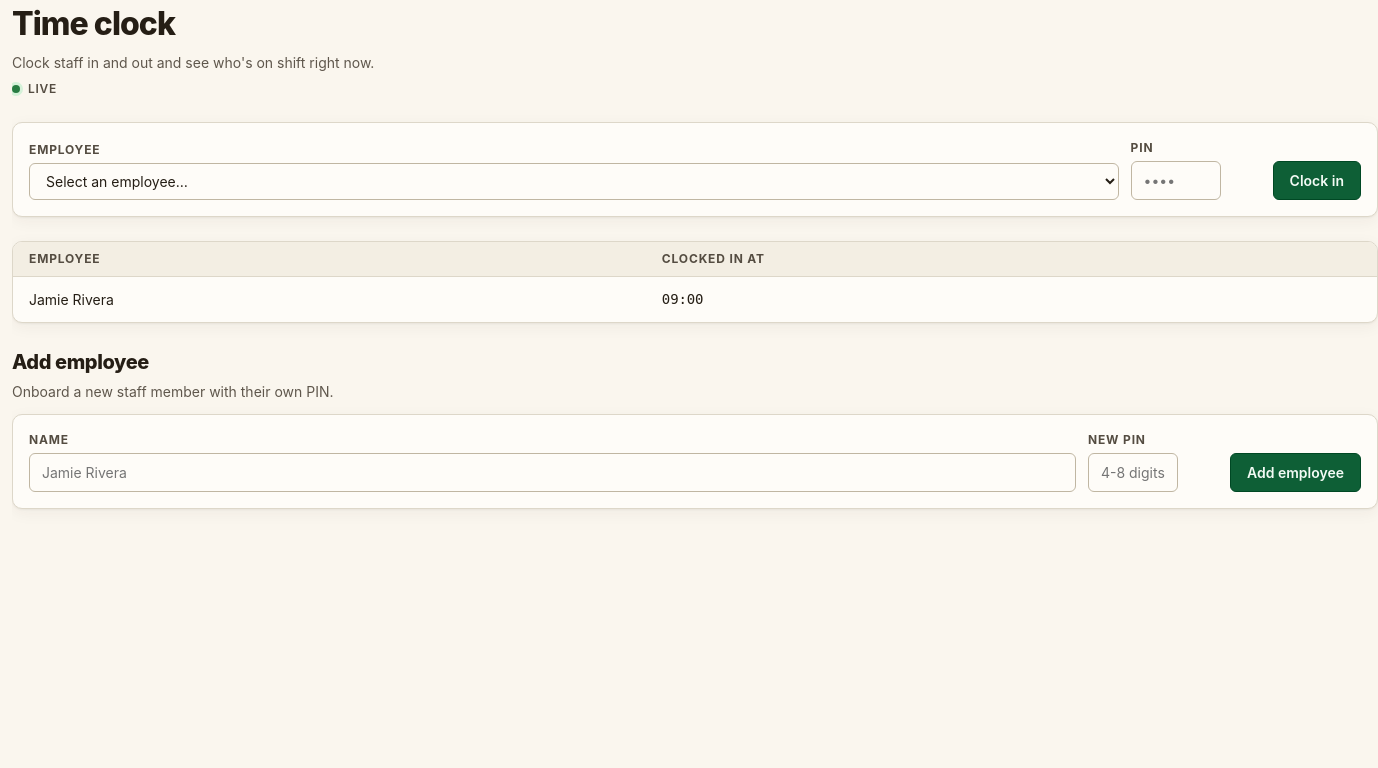
Test: TimeclockPanel › shows Clock out for an employee with an open shift and submits clock-out
This screenshot has width=1378, height=768.
Select "Jamie Rivera" in the dropdown labelled "Employee": (574, 182) [29,163,1119,200]
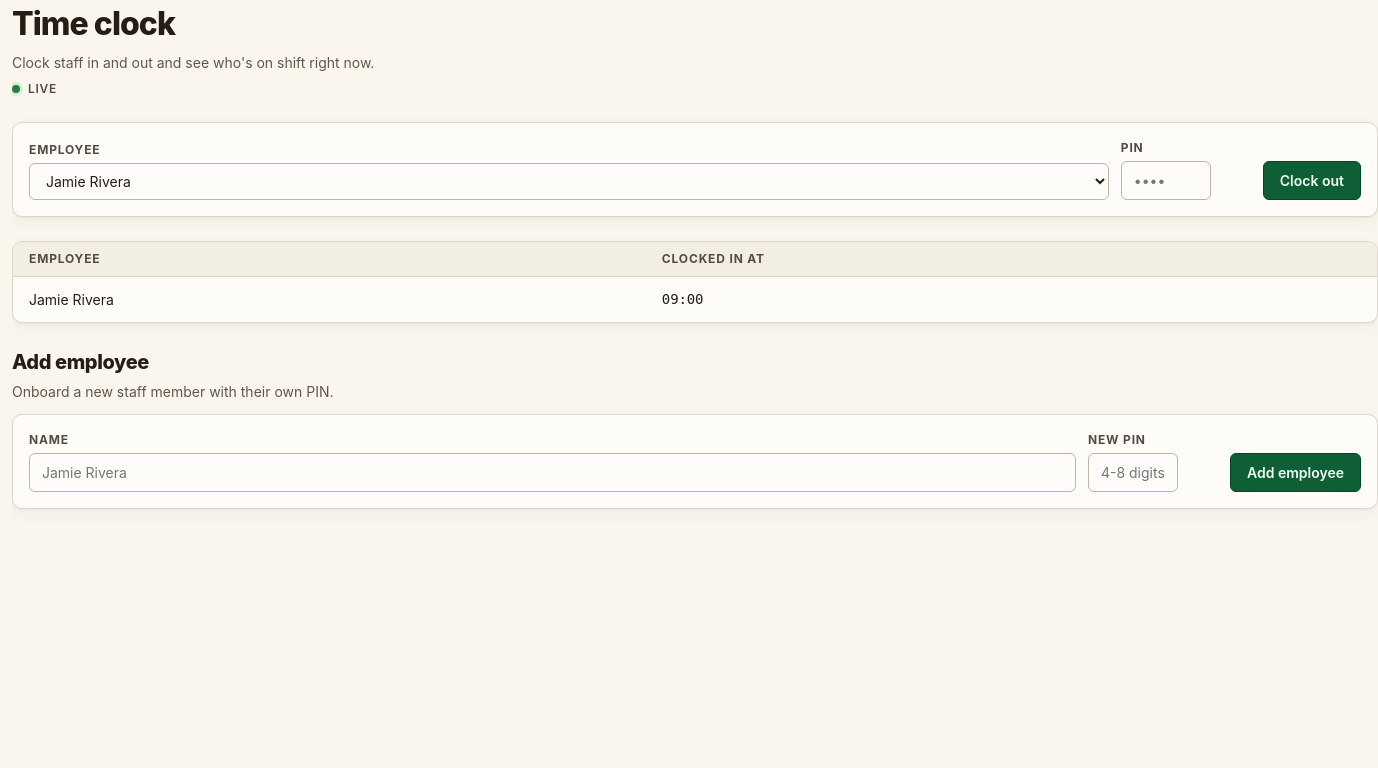
Expected: the button "Clock out" is shown, [1263,161,1361,200]
In the password field labelled "PIN": (1166, 180) [1121,161,1211,200], type "4321"
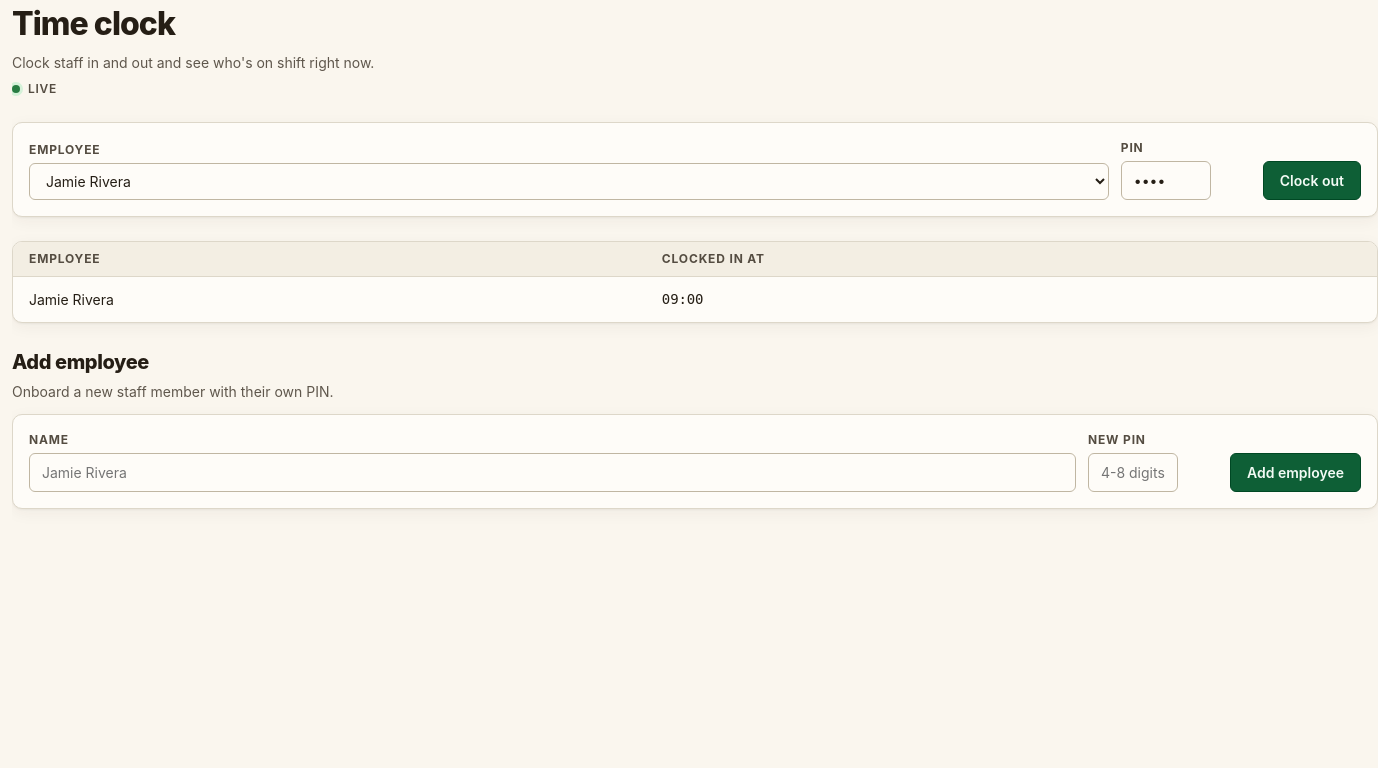
Click the button "Clock out": (1312, 180) [1263,161,1361,200]
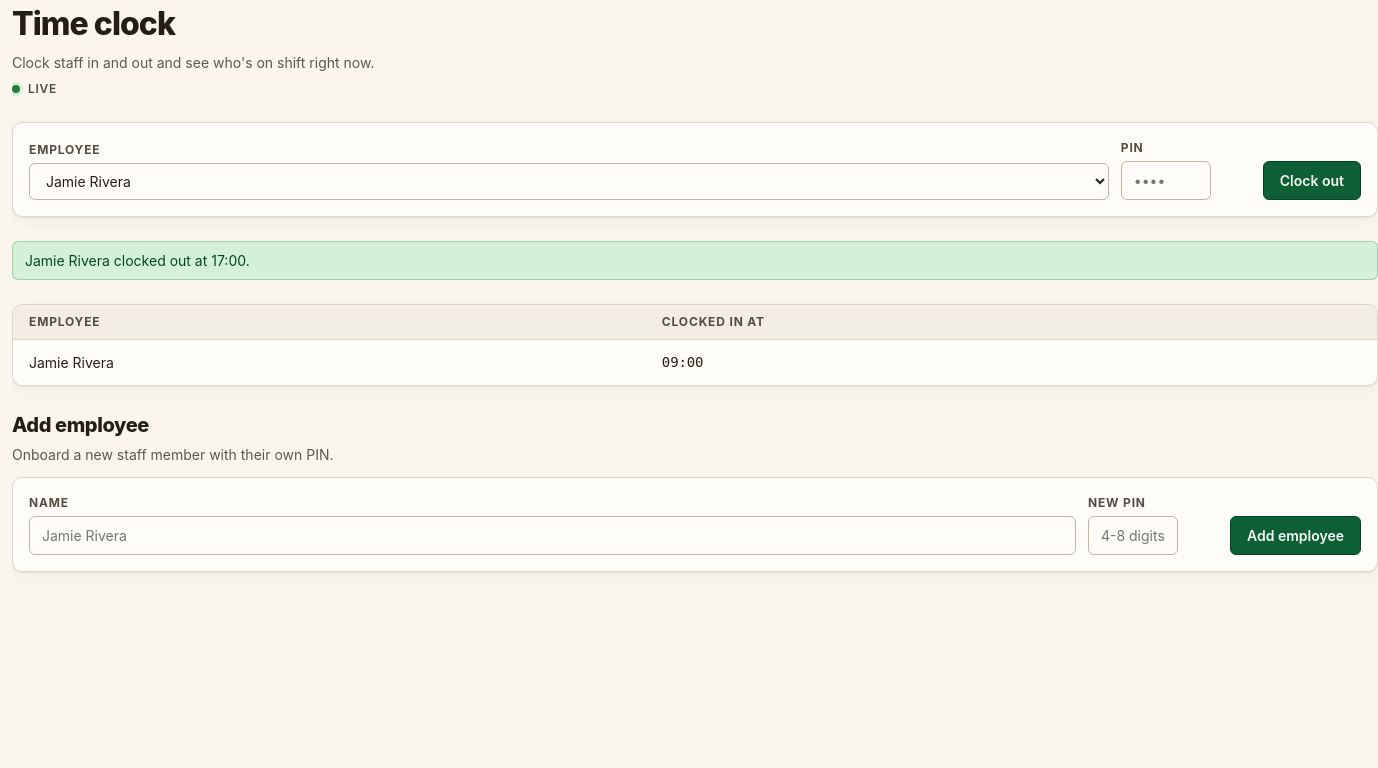
Expected: the text "Jamie Rivera clocked out at 17:00." is shown, [12,241,1377,280]
